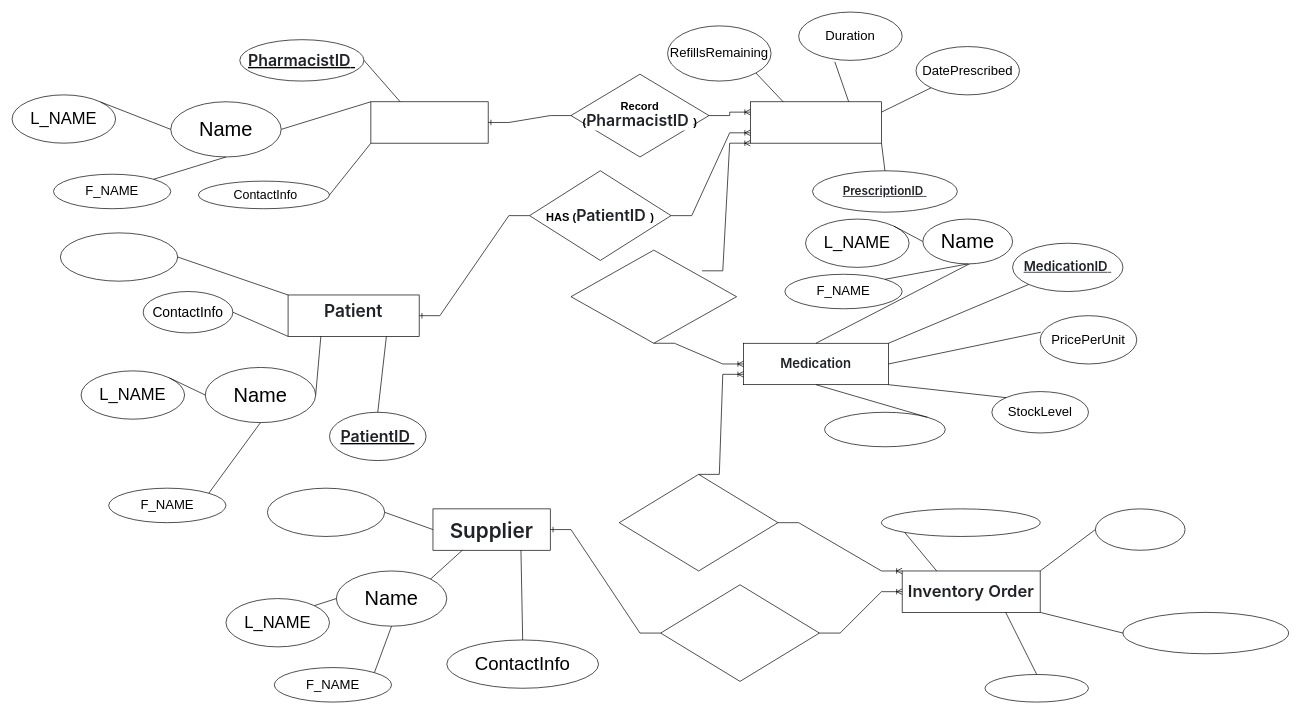
This 1301x714 diagram has some shape labels left out. The centre of each missing label's shape, as x and y in pixels:
HAS( MedicationID ): (x=653, y=296)
InsuranceDetails: (x=119, y=256)
Manufacturer: (x=884, y=429)
ORDER( I SupplierID: (x=739, y=632)
ORDER( MedicationID ): (x=698, y=522)
OrderDate: (x=1140, y=529)
OrderID: (x=1036, y=688)
Pharmacist: (x=429, y=122)
Prescription: (x=815, y=122)
QuantityOrdered: (x=960, y=522)
ReceivedDate: (x=1205, y=633)
SupplierID: (x=326, y=511)
